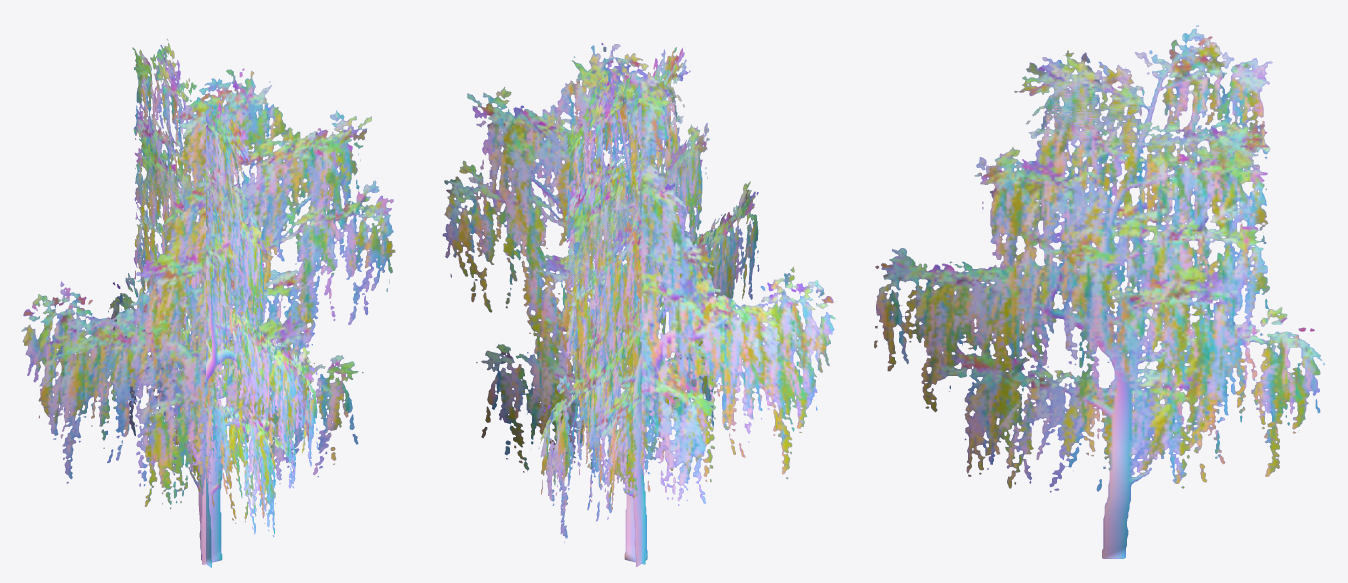
Rendered from tree_birch_02_CROSS.FBX.
The picture shows the model from 3 angles, left to right: view 1: azimuth 30°, elevation 25°; view 2: azimuth 150°, elevation 25°; view 3: azimuth 270°, elevation 25°; orthographic projection. The views are drawn at different scales.
Parts seen in each view (by area): view 1: tree_birch_02_CROSS; view 2: tree_birch_02_CROSS; view 3: tree_birch_02_CROSS.
Part boxes in pixels (bbox=[...]): tree_birch_02_CROSS: bbox=[21, 39, 395, 567]; tree_birch_02_CROSS: bbox=[442, 43, 835, 566]; tree_birch_02_CROSS: bbox=[874, 25, 1324, 558].
Size of the model in its own units: 15164 by 19242 by 14501.
